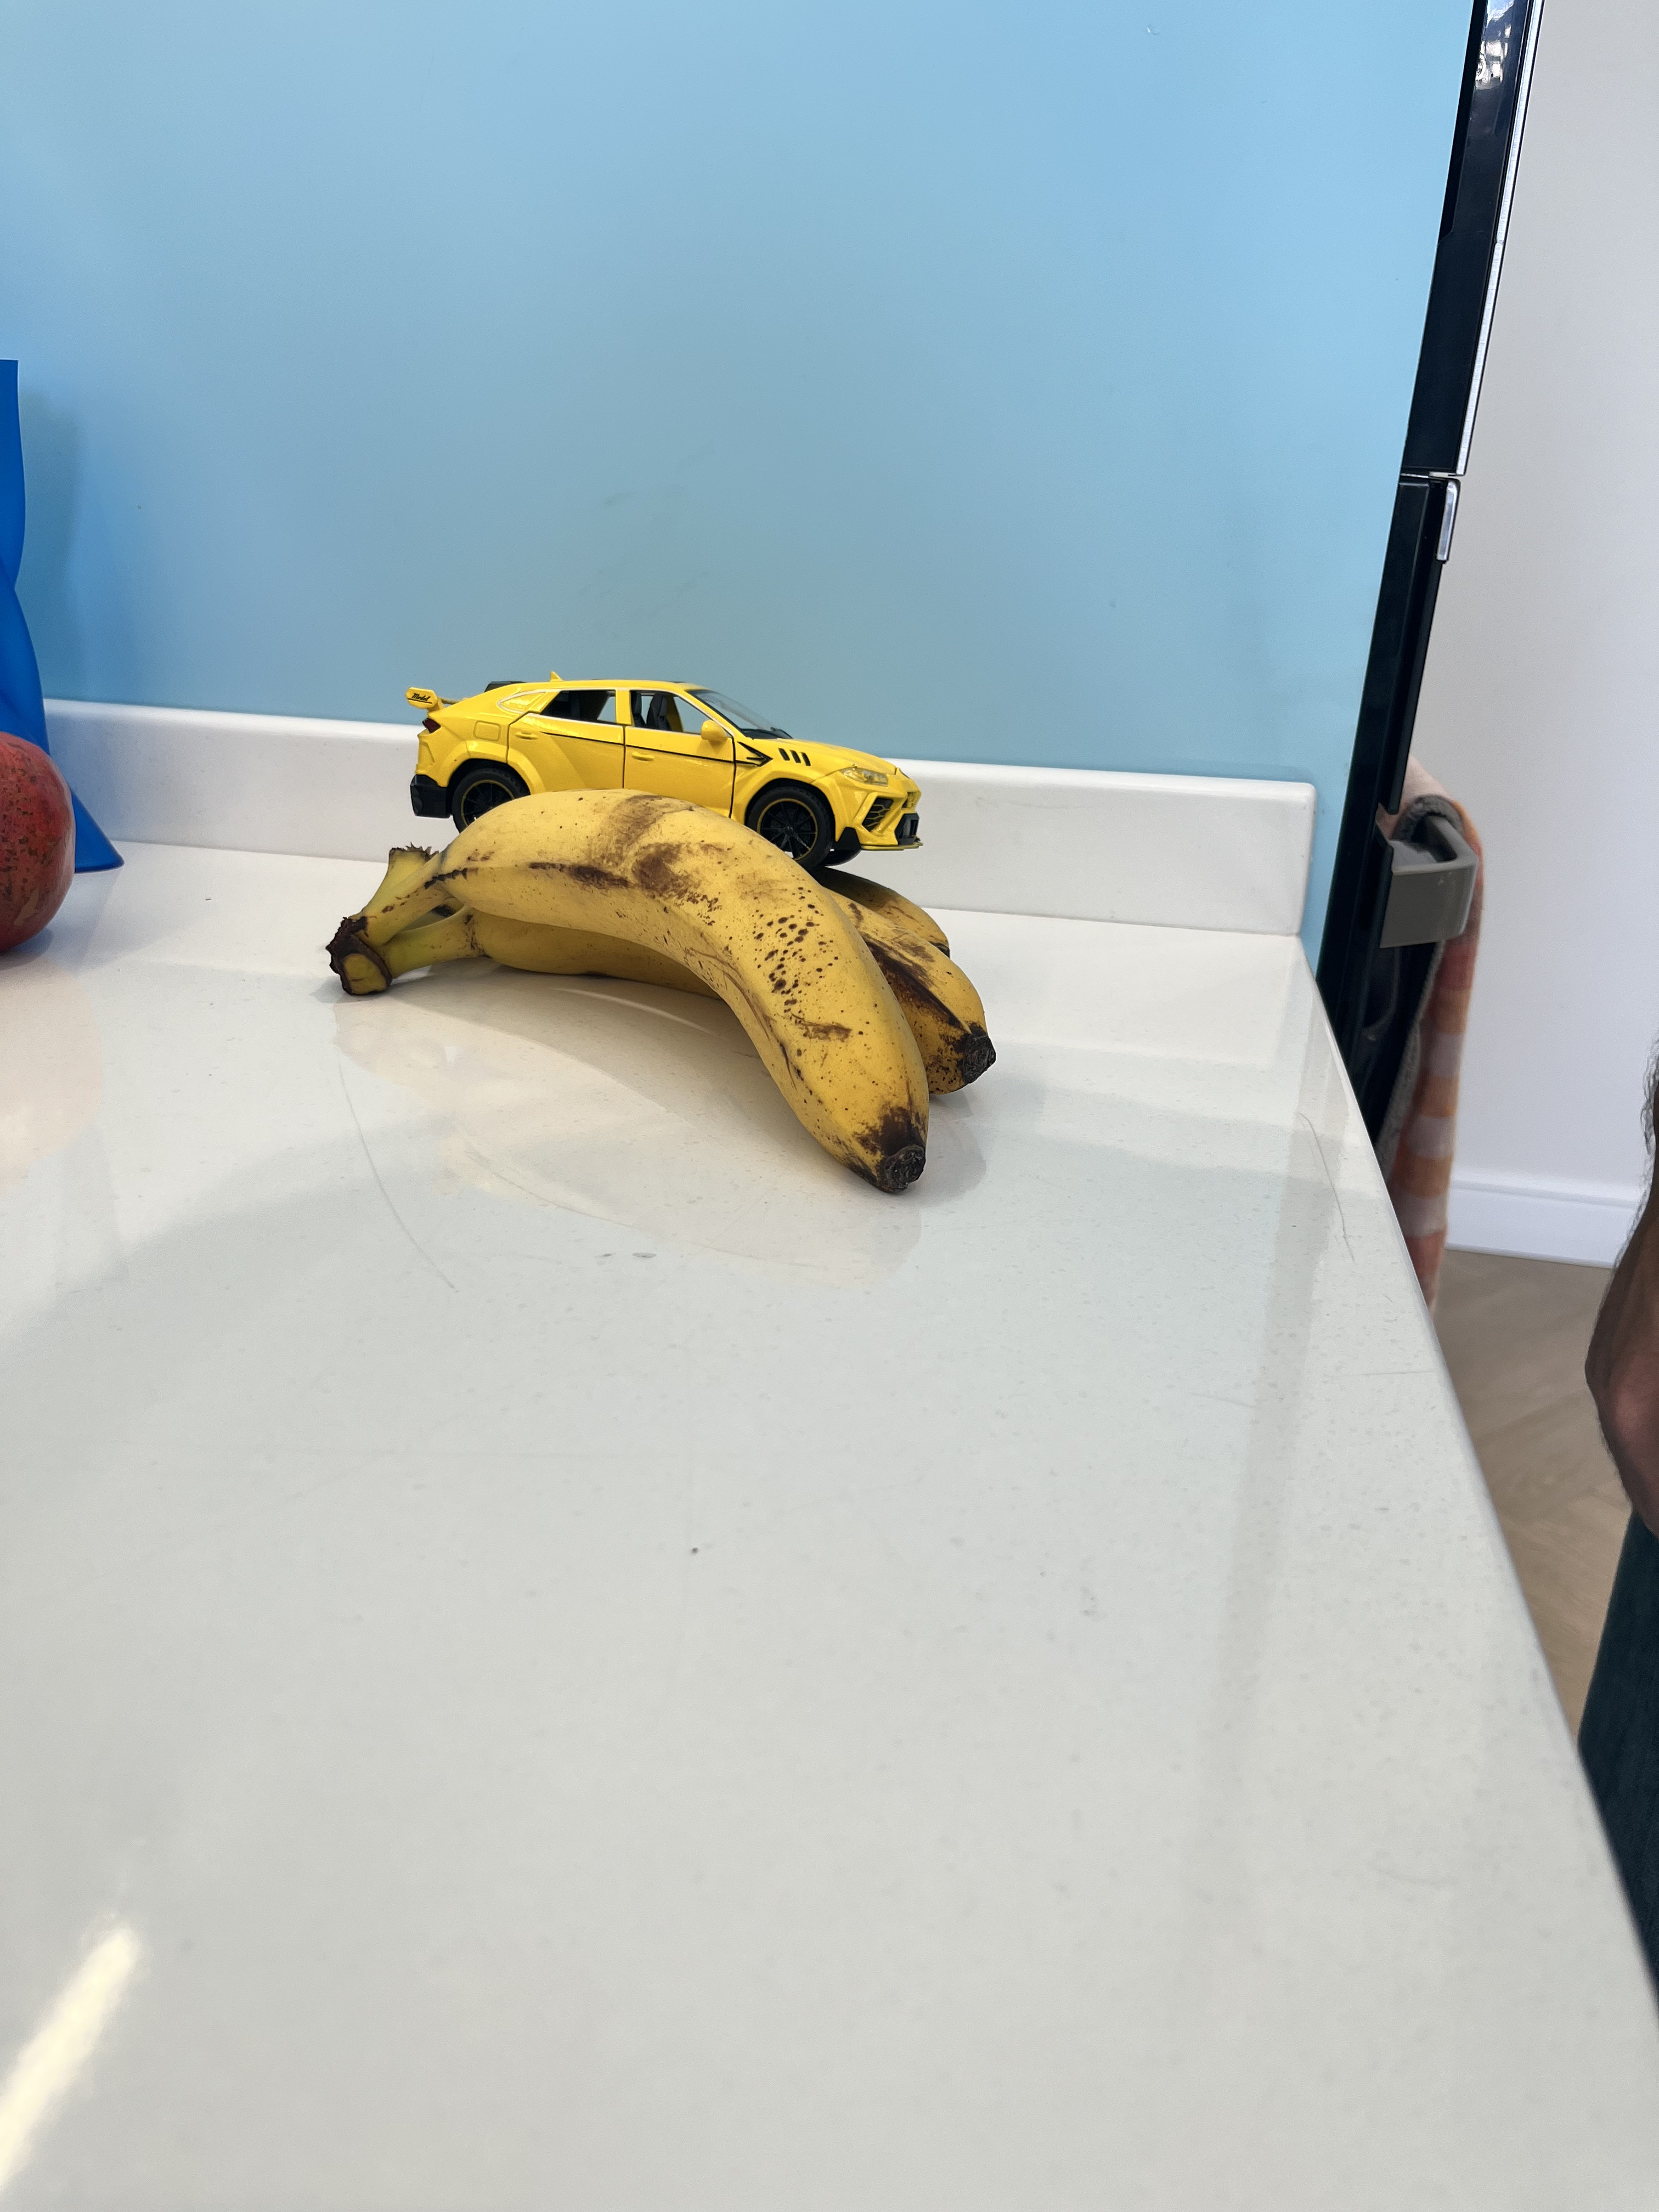lambo: (394, 657, 943, 873)
